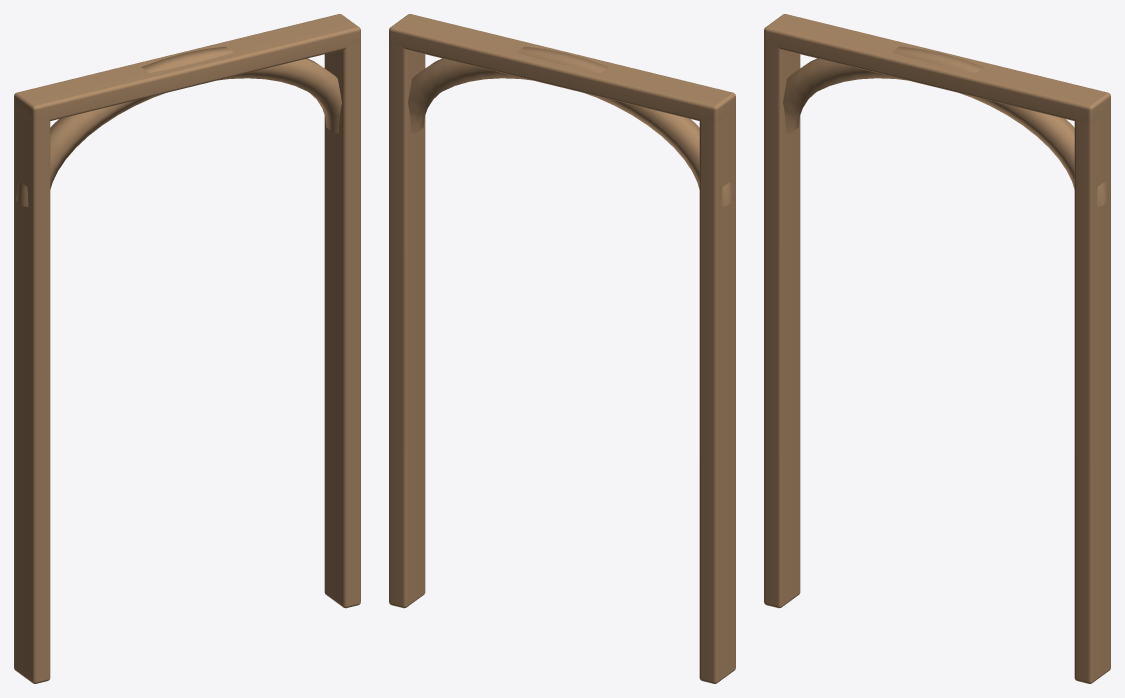
Rendered from atelier-archway.glb.
3 views of the same model, side by side, from view 1: azimuth 30°, elevation 25°; view 2: azimuth 150°, elevation 25°; view 3: azimuth 330°, elevation 25° (orthographic).
Parts seen in each view (by area): view 1: legs.248; view 2: legs.248; view 3: legs.248.
Boxes of the visible parts, <box> form: legs.248: <box>14,14,360,683</box>; legs.248: <box>389,14,735,683</box>; legs.248: <box>764,14,1110,683</box>.
Bounding box in the file's own units: 1.29 × 2.15 × 0.14.
